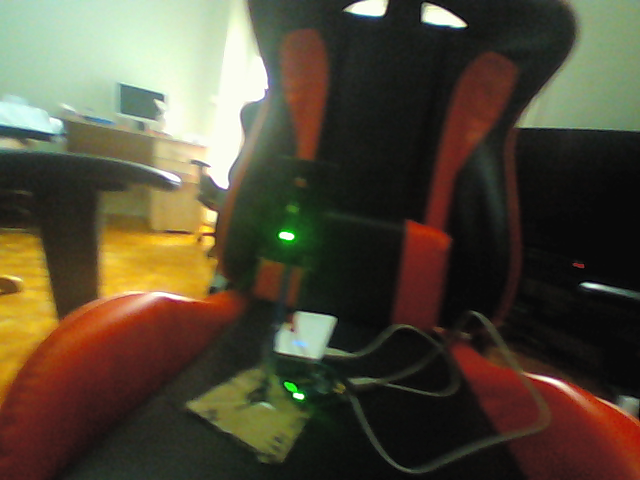green_sign: (253, 158, 342, 263)
